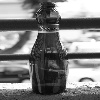beer: (30, 2, 68, 100)
